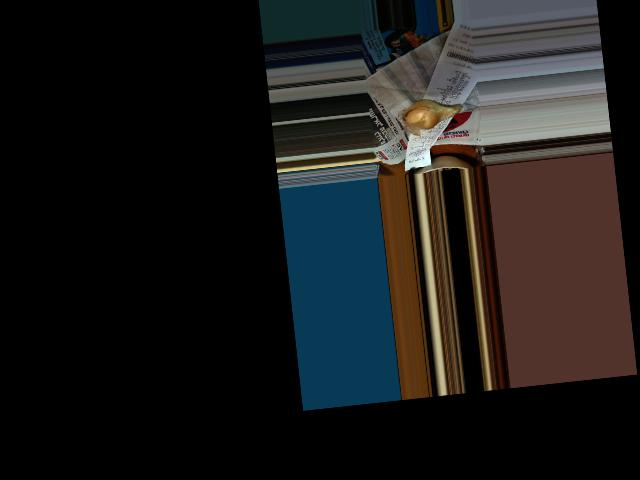onion: (400, 98, 456, 130)
